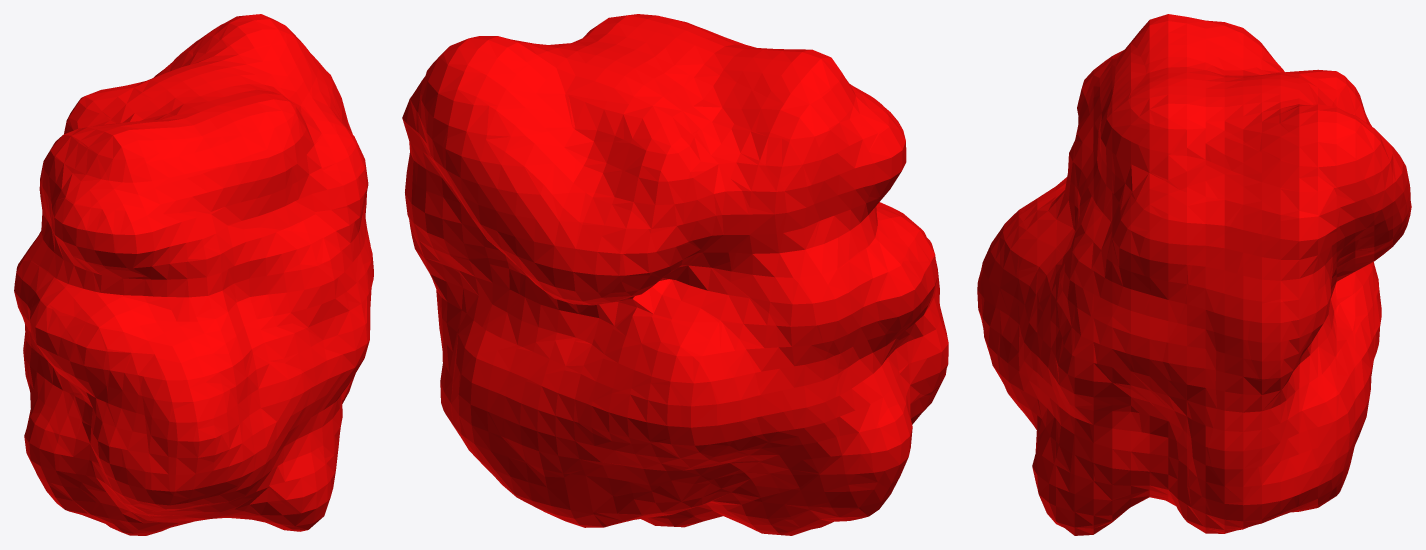
The model's file is dcyD_coarse.dae.
3 renders of one model, left to right at view 1: azimuth 30°, elevation 25°; view 2: azimuth 150°, elevation 25°; view 3: azimuth 270°, elevation 25°, orthographic. The views are drawn at different scales.
Parts seen in each view (by area): view 1: dcyD; view 2: dcyD; view 3: dcyD.
Part boxes in pixels (x1,y1,x2,y2): dcyD: (14, 14, 373, 535); dcyD: (402, 14, 948, 535); dcyD: (977, 14, 1411, 535).
Size of the model in its own units: 51.54 by 55.25 by 47.44.
